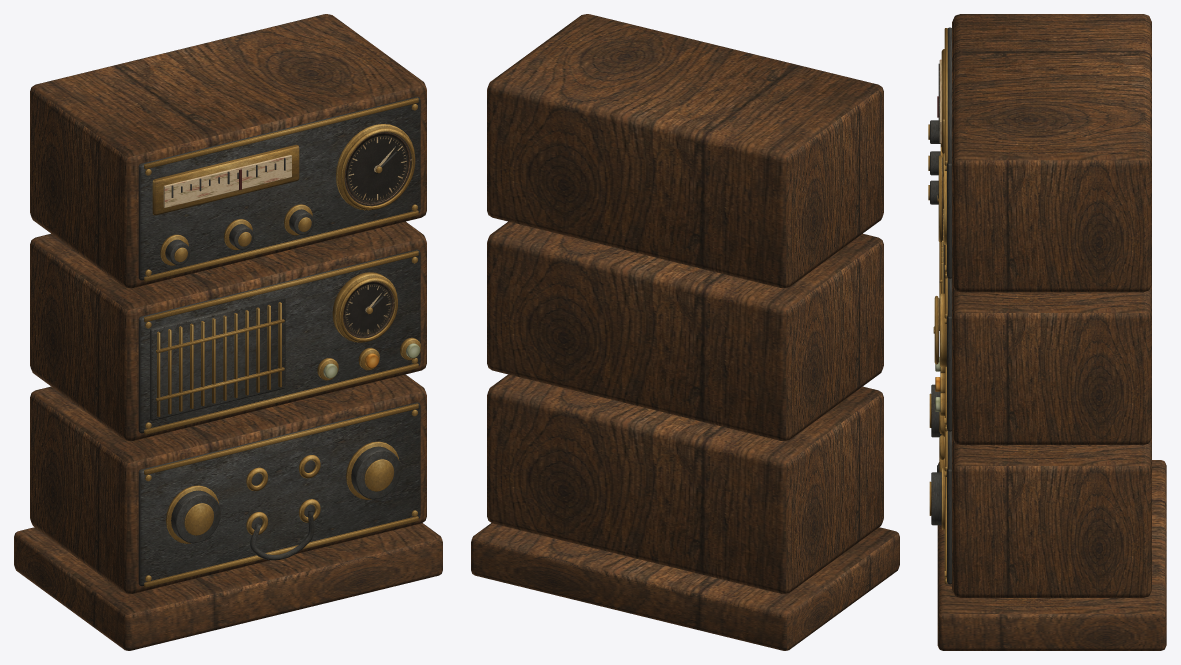
Rendered from SM_MoleControlV2_VintageRadioStack.fbx.
3 views of the same model, side by side, from view 1: azimuth 30°, elevation 25°; view 2: azimuth 150°, elevation 25°; view 3: azimuth 270°, elevation 25° (orthographic).
Parts seen in each view (by area): view 1: SM_MoleControlV2_VintageRadioStack; view 2: SM_MoleControlV2_VintageRadioStack; view 3: SM_MoleControlV2_VintageRadioStack.
Boxes of the visible parts, left/top/right/bottom form: SM_MoleControlV2_VintageRadioStack: left=14, top=14, right=442, bottom=650; SM_MoleControlV2_VintageRadioStack: left=471, top=14, right=899, bottom=650; SM_MoleControlV2_VintageRadioStack: left=928, top=14, right=1166, bottom=650.
Size of what is drawn, in the model's own units: 85 by 55 by 125.
